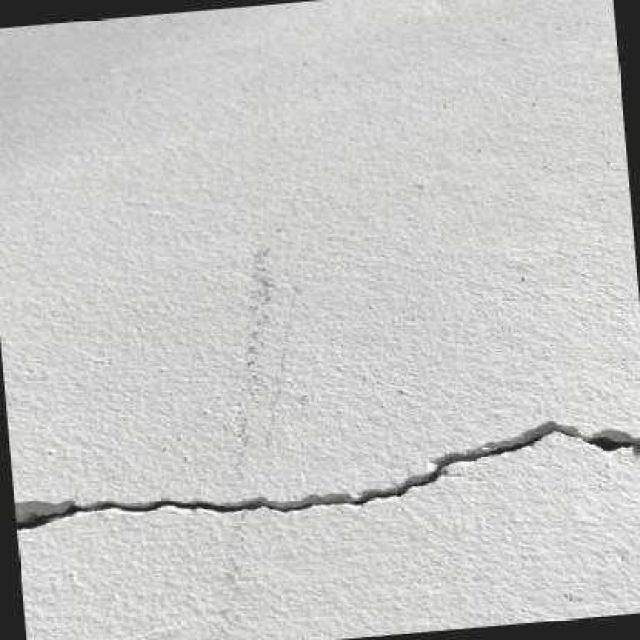D00: (16, 427, 640, 528)
